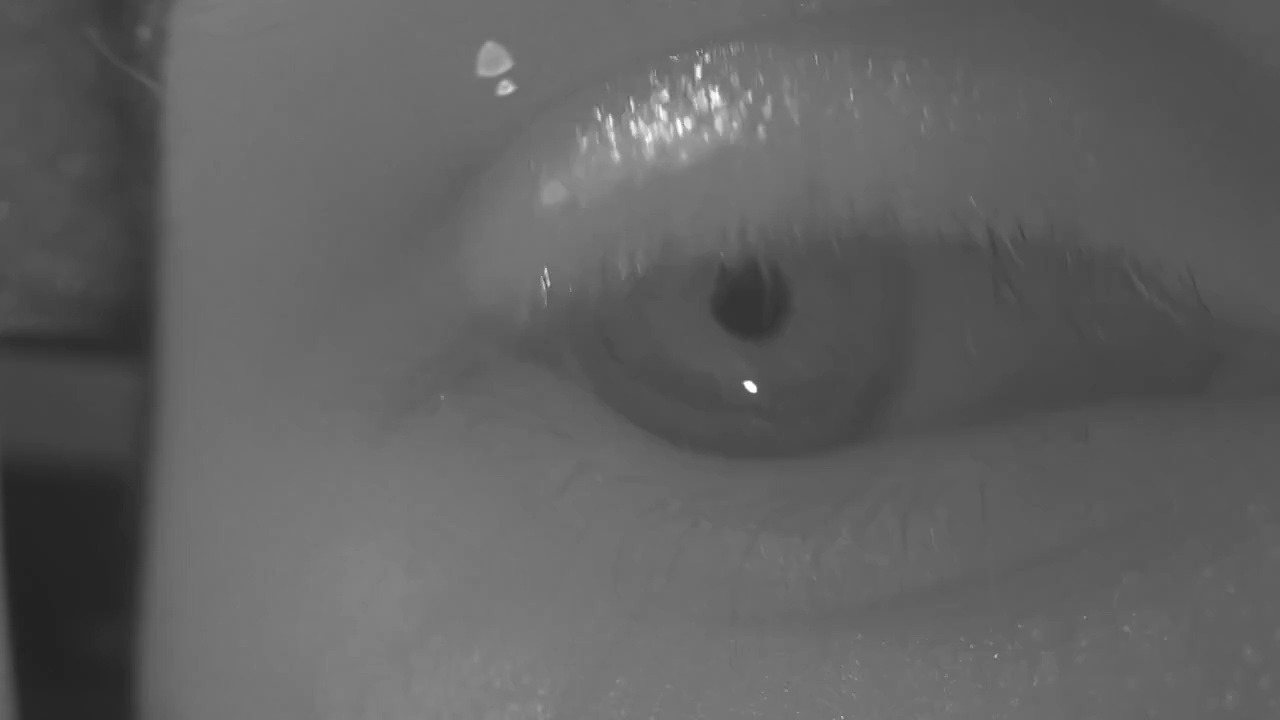pupil: (710, 261, 790, 337)
